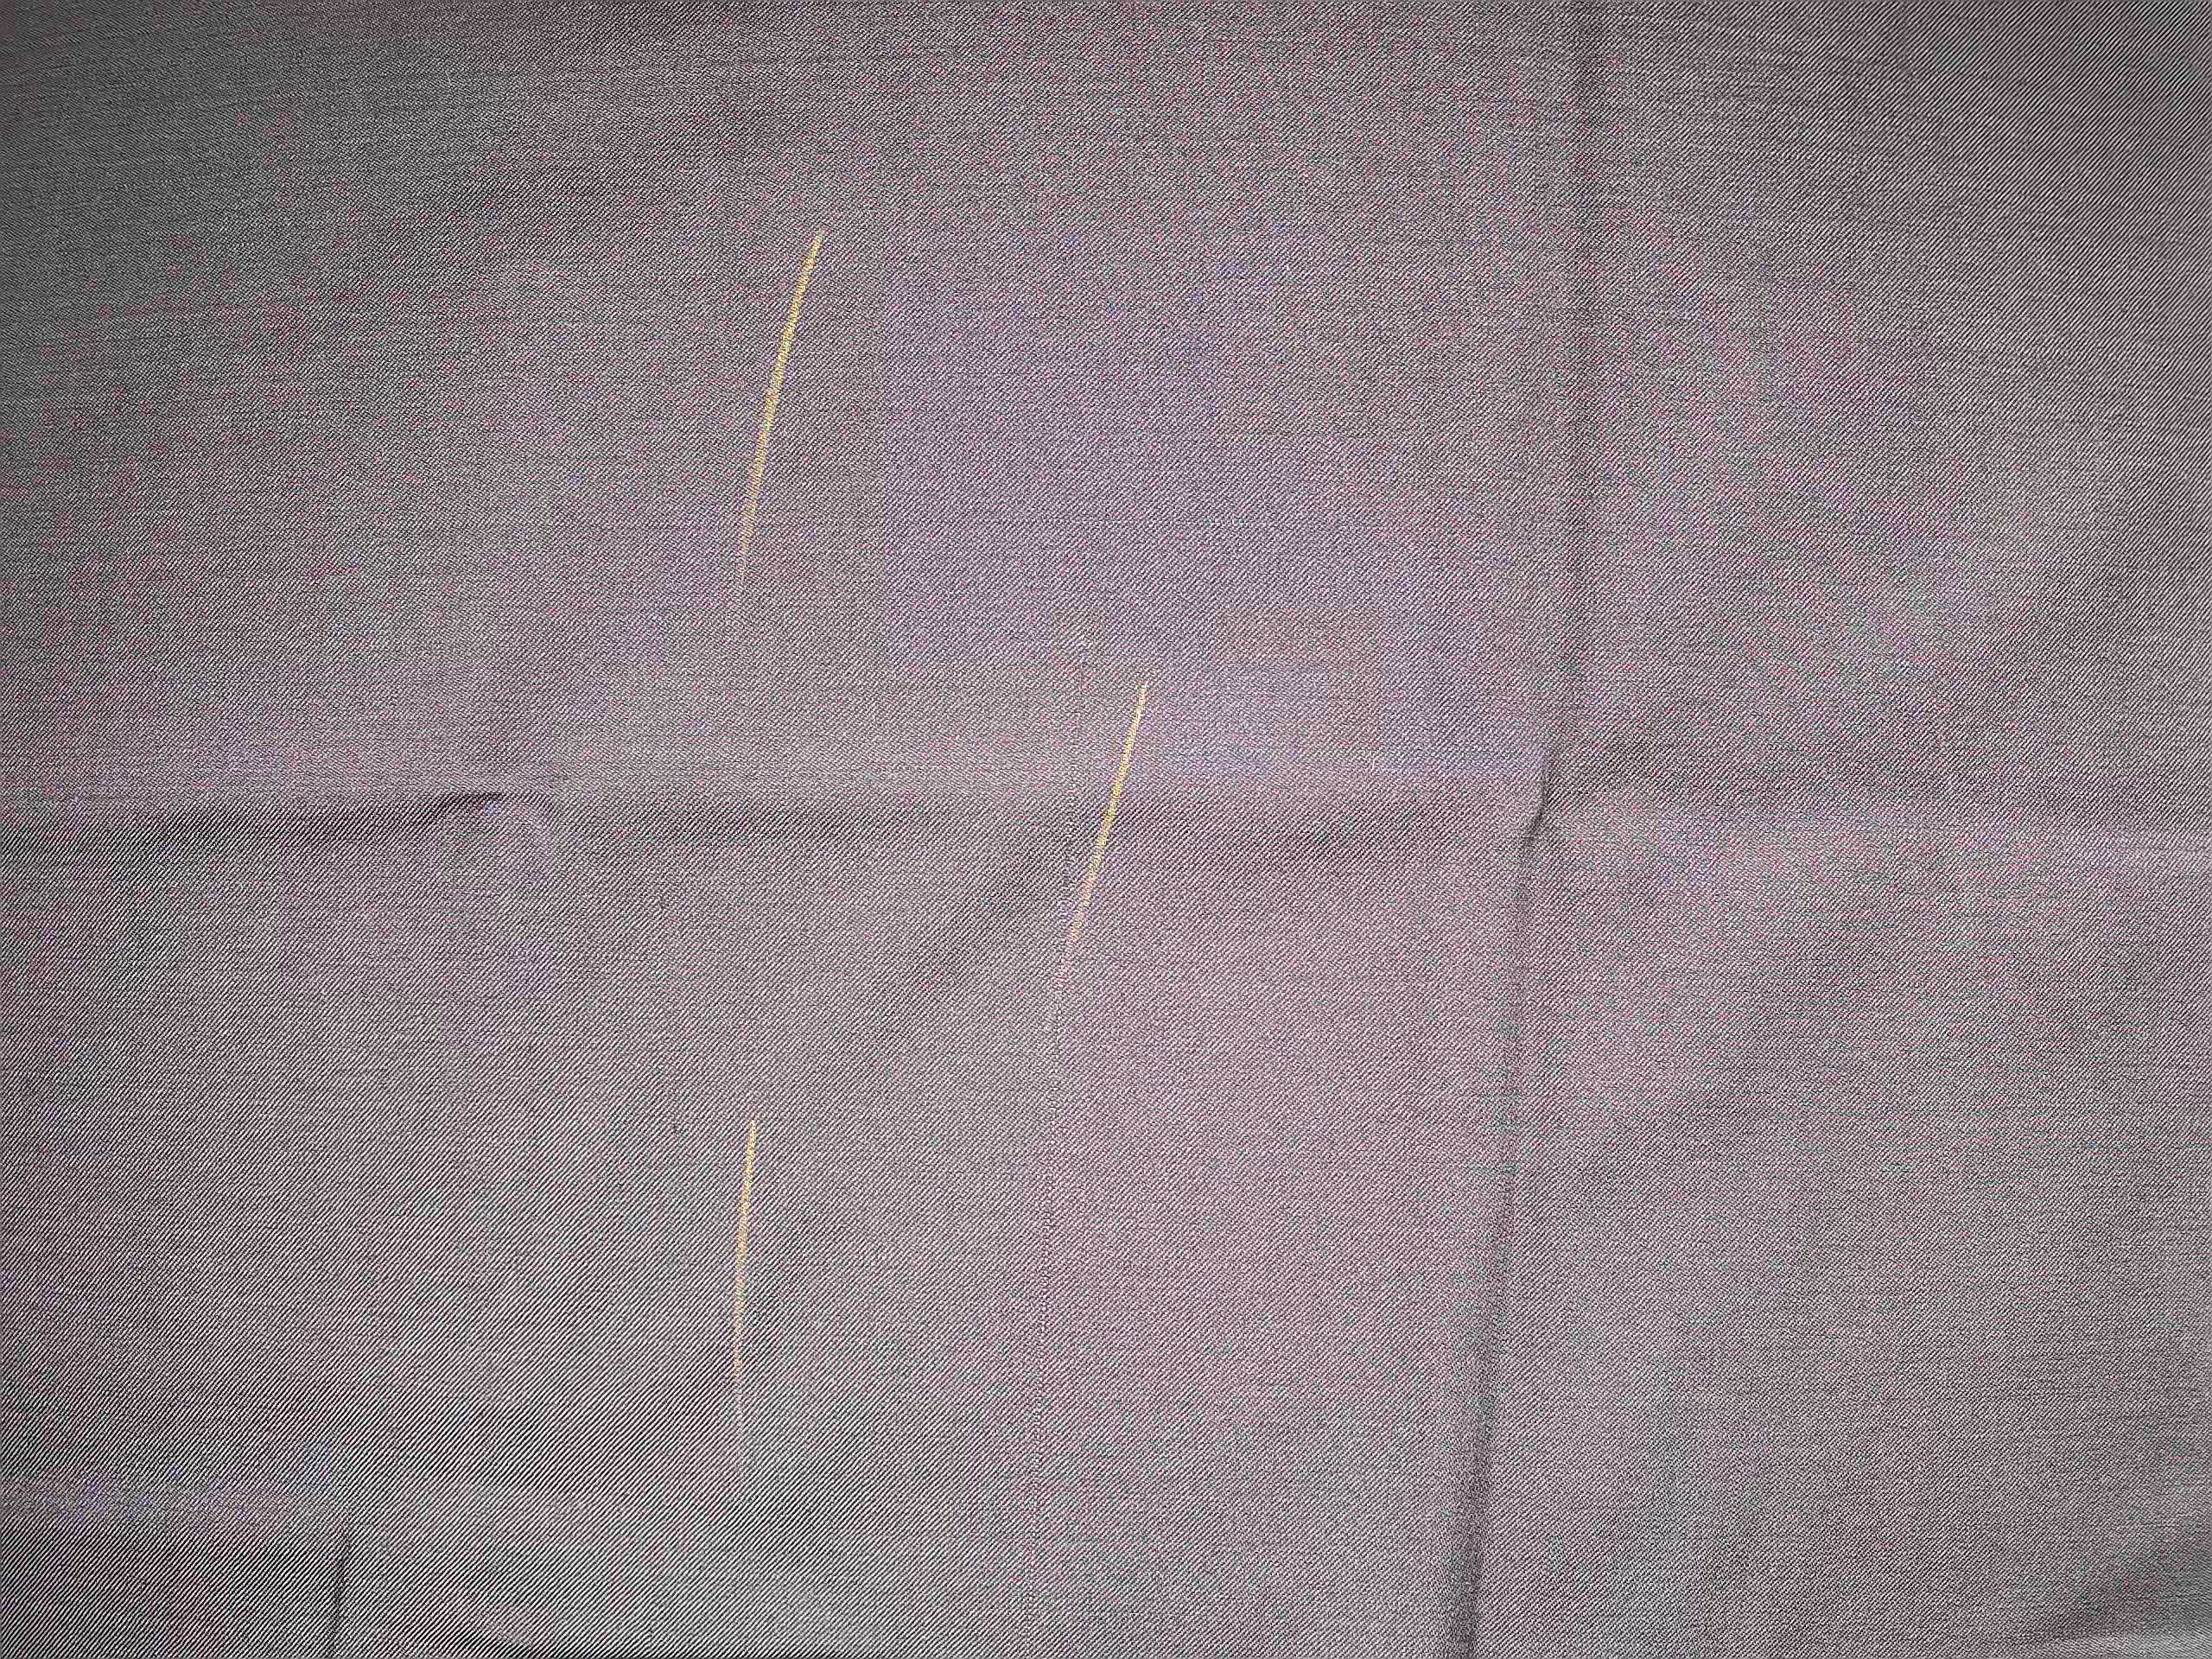lacking-warp: (1015, 615, 1099, 1640)
